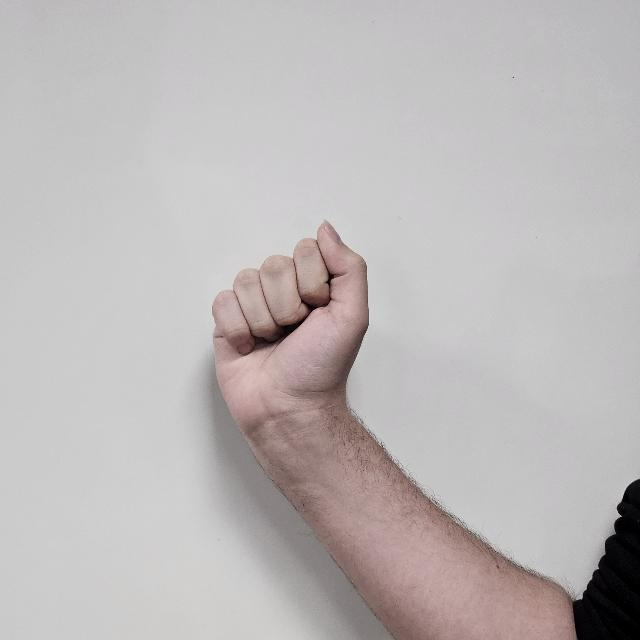Quadro: (208, 218, 370, 418)
